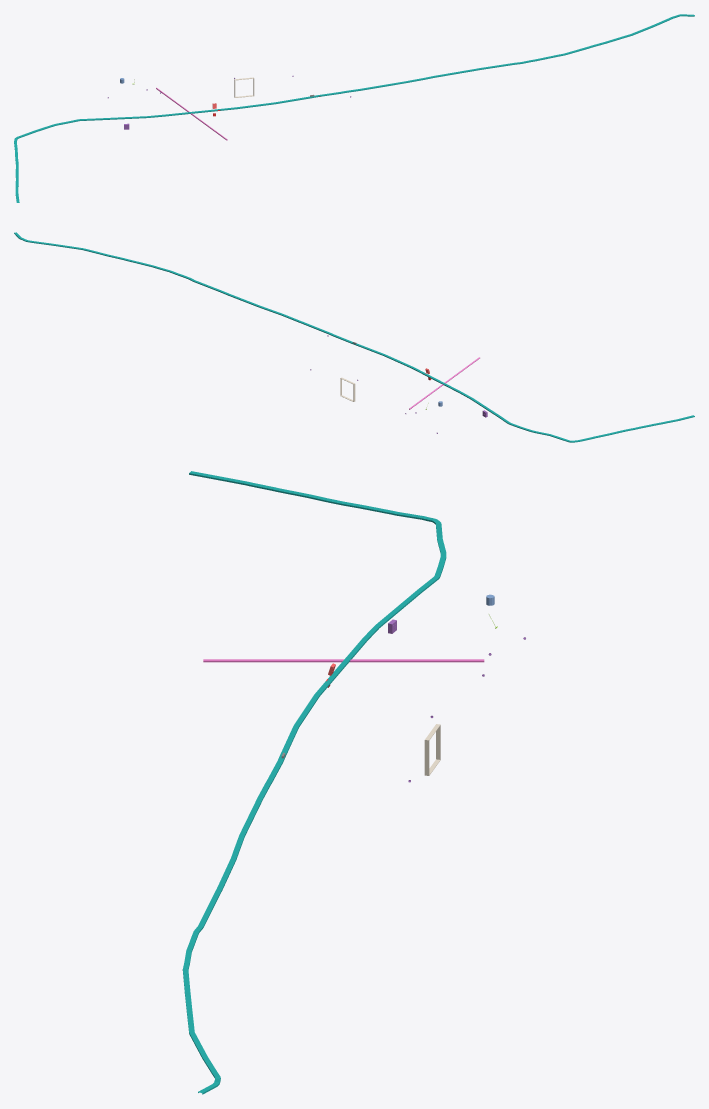
The model's file is tile_491.glb.
The picture shows the model from 3 angles, top to bottom: view 1: azimuth 30°, elevation 25°; view 2: azimuth 150°, elevation 25°; view 3: azimuth 270°, elevation 25°; orthographic projection. The views are drawn at different scales.
Size of the model in its own units: 55.72 by 2.62 by 12.21.
